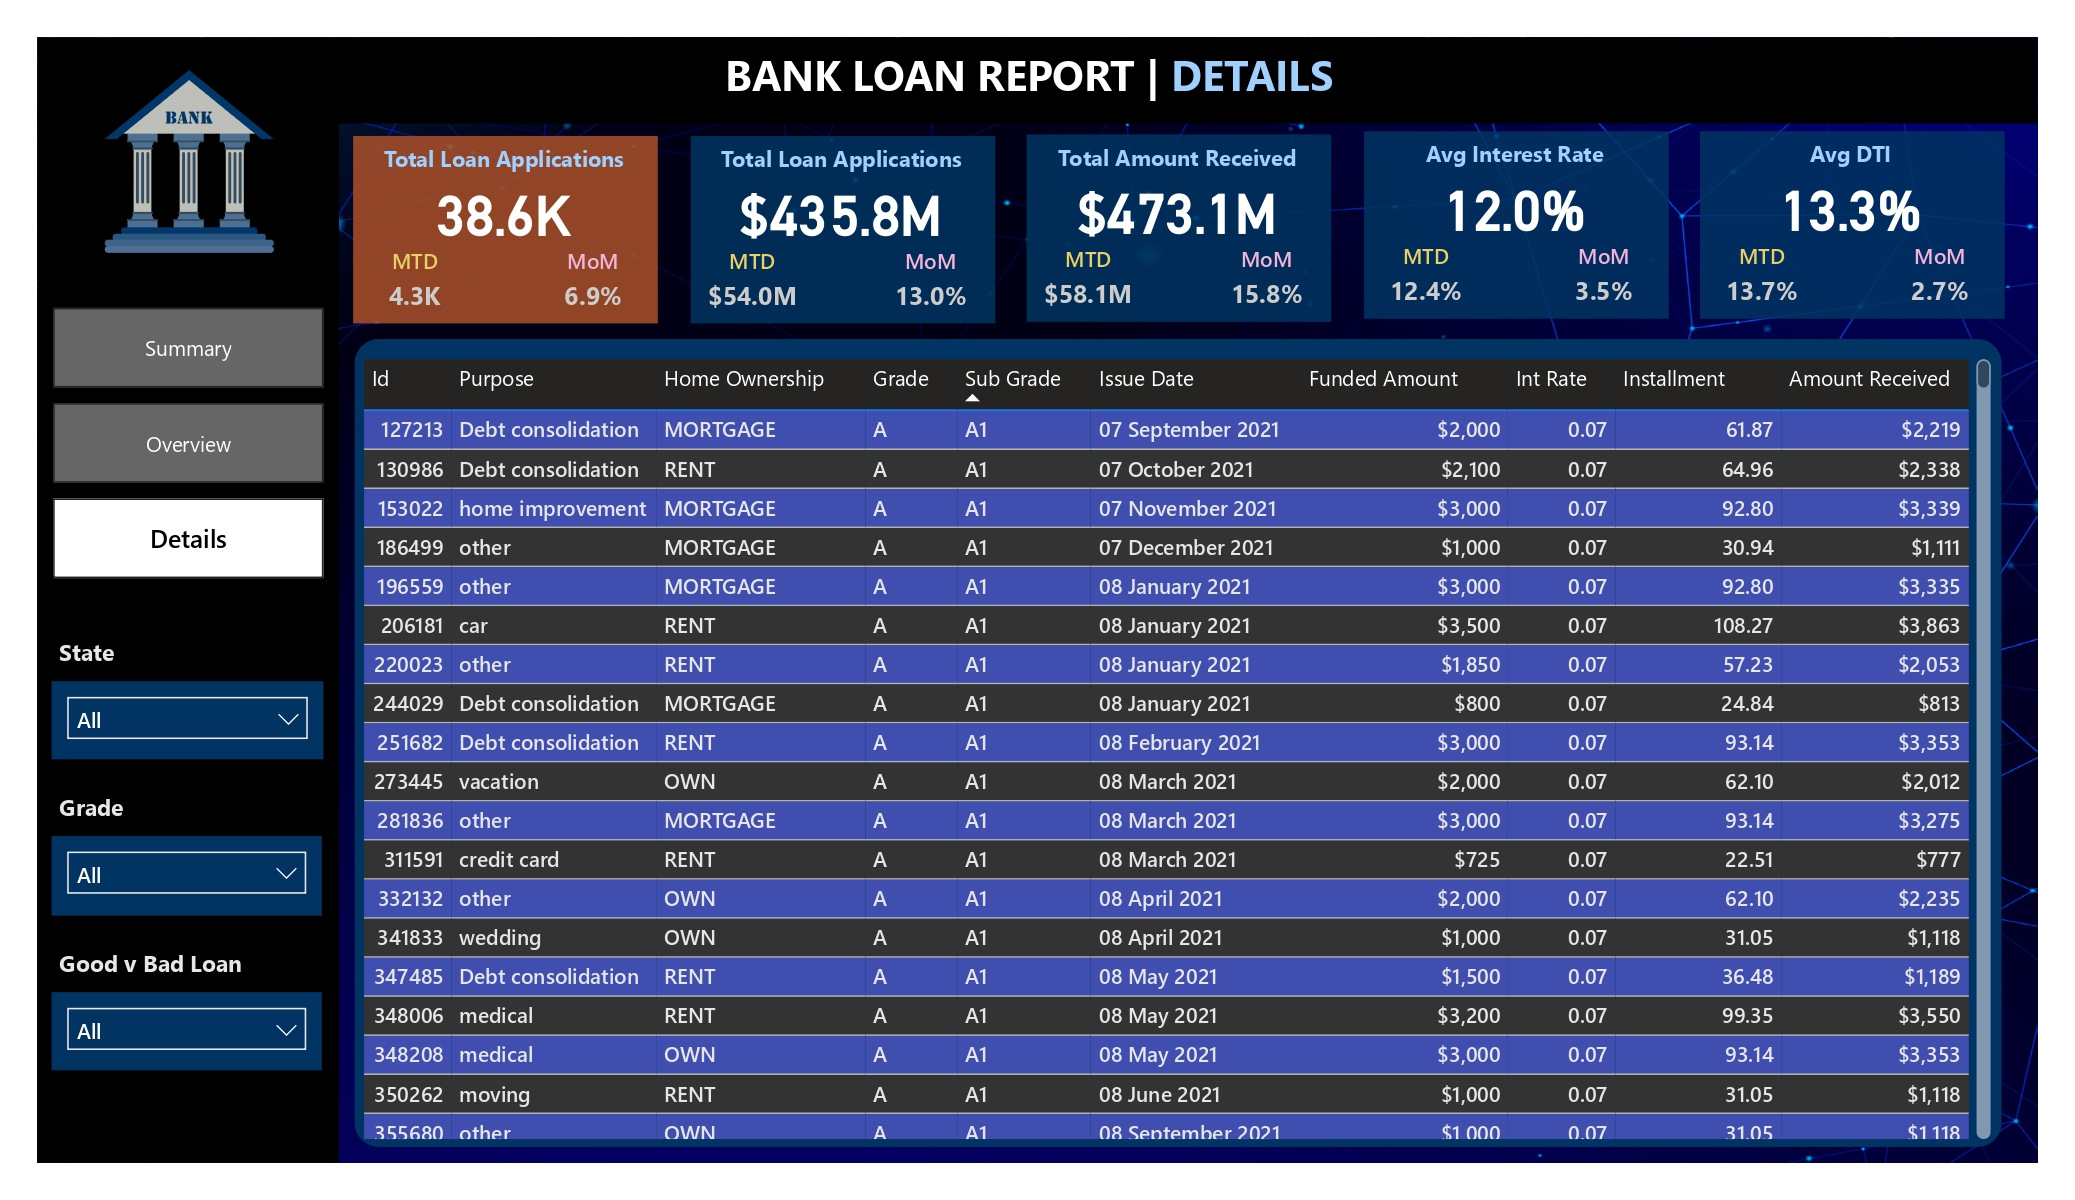

The page's visual inventory and layout, read from the dashboard file:
{"tool":"powerbi","page":{"name":"Details","canvas":[1280,720],"ordinal":2},"visuals":[{"type":"shape","box":[0,45.3,193,674.4],"z":0},{"type":"shape","box":[0,0,1280.3,55],"z":1000},{"type":"textbox","box":[434.6,0,439.5,55.6],"z":2000},{"type":"shape","box":[848.6,60.5,195.1,120],"z":3000,"group":"g4"},{"type":"shape","box":[1064.1,60.5,195.1,120],"z":3000,"group":"g5"},{"type":"shape","box":[633.2,61.6,195.1,120],"z":3000,"group":"g3"},{"type":"group","id":"g1","title":"Group 1","box":[202.3,62.8,195.3,119.8],"z":3000},{"type":"shape","box":[202.4,62.8,195.1,120],"z":3000,"group":"g1"},{"type":"shape","box":[417.8,62.8,195.1,120],"z":3000,"group":"g2"},{"type":"group","id":"g2","title":"Group 1","box":[417.7,62.8,195.3,119.8],"z":4000},{"type":"card","fields":{"Values":["Bank_Loan_data.Average Interest Rate"]},"box":[849.7,78.7,189.4,60],"z":4000,"group":"g4"},{"type":"card","fields":{"Values":["Bank_Loan_data.Avg DTI"]},"box":[1065.2,78.7,189.4,60],"z":4000,"group":"g5"},{"type":"card","fields":{"Values":["Bank_Loan_data.Total Amount Recieved"]},"box":[634.3,79.8,189.4,60],"z":4000,"group":"g3"},{"type":"card","fields":{"Values":["Bank_Loan_data.Total Loan Applications"]},"box":[203.5,81,189.4,60],"z":4000,"group":"g1"},{"type":"card","fields":{"Values":["Bank_Loan_data.Total Funded Amount"]},"box":[418.9,81,189.4,60],"z":4000,"group":"g2"},{"type":"textbox","box":[848.6,60.5,192.6,35.8],"z":5000,"group":"g4"},{"type":"textbox","box":[1064.1,60.5,192.6,35.8],"z":5000,"group":"g5"},{"type":"textbox","box":[633.2,61.6,192.6,35.8],"z":5000,"group":"g3"},{"type":"textbox","box":[202.4,62.8,192.6,35.8],"z":5000,"group":"g1"},{"type":"textbox","box":[417.8,62.8,192.6,35.8],"z":5000,"group":"g2"},{"type":"shape","box":[203.5,193,1053.5,517.4],"z":5000},{"type":"group","id":"g3","title":"Group 1","box":[633.1,61.6,195.3,119.8],"z":6000},{"type":"card","title":"MTD","fields":{"Values":["Bank_Loan_data.MTD Avg Int Rate"]},"box":[848.5,131.6,78.8,48.2],"z":6000,"group":"g4"},{"type":"card","title":"MTD","fields":{"Values":["Bank_Loan_data.MTD Avg DTI"]},"box":[1064,131.6,78.8,48.2],"z":6000,"group":"g5"},{"type":"card","title":"MTD","fields":{"Values":["Bank_Loan_data.MTD Total Amount Recieved"]},"box":[633.1,132.7,78.8,48.2],"z":6000,"group":"g3"},{"type":"card","title":"MTD","fields":{"Values":["Bank_Loan_data.MTD Loan Applications"]},"box":[202.3,133.9,78.8,48.2],"z":6000,"group":"g1"},{"type":"card","title":"MTD","fields":{"Values":["Bank_Loan_data.MTD Funded Amount"]},"box":[417.7,133.9,78.8,48.2],"z":6000,"group":"g2"},{"type":"group","id":"g4","title":"Group 1","box":[848.5,60.5,195.3,119.8],"z":7000},{"type":"card","title":"MoM","fields":{"Values":["Bank_Loan_data.MoM Avg Int Rate"]},"box":[962.6,131.6,78.8,48.2],"z":7000,"group":"g4"},{"type":"card","title":"MoM","fields":{"Values":["Bank_Loan_data.MoM Avg DTI"]},"box":[1178.1,131.6,78.8,48.2],"z":7000,"group":"g5"},{"type":"card","title":"MoM","fields":{"Values":["Bank_Loan_data.MoM Total Amount Recieved"]},"box":[747.2,132.7,78.8,48.2],"z":7000,"group":"g3"},{"type":"card","title":"MoM","fields":{"Values":["Bank_Loan_data.MoM Loan Application"]},"box":[316.4,133.9,78.8,48.2],"z":7000,"group":"g1"},{"type":"card","title":"MoM","fields":{"Values":["Bank_Loan_data.MoM Total Funded Amount"]},"box":[531.8,133.9,78.8,48.2],"z":7000,"group":"g2"},{"type":"group","id":"g5","title":"Group 1","box":[1064,60.5,195.3,119.8],"z":8000},{"type":"slicer","fields":{"Values":["Bank_Loan_data.address_state"]},"box":[9.3,411.6,173.3,50],"z":9000},{"type":"textbox","box":[9.3,377.9,73.3,33.7],"z":10000},{"type":"slicer","fields":{"Values":["Bank_Loan_data.grade"]},"box":[8.9,511.4,173.1,50.2],"z":11000},{"type":"textbox","box":[8.9,476.8,73.7,33.5],"z":12000},{"type":"slicer","fields":{"Values":["Bank_Loan_data.Good vs Bad Loan"]},"box":[8.9,610.8,173.1,50.2],"z":13000},{"type":"textbox","box":[9.3,576.7,145.3,33.7],"z":14000},{"type":"tableEx","fields":{"Values":["Bank_Loan_data.id","Bank_Loan_data.purpose","Bank_Loan_data.home_ownership","Bank_Loan_data.grade","Bank_Loan_data.sub_grade","Bank_Loan_data.issue_date","Bank_Loan_data.Total Funded Amount","Sum(Bank_Loan_data.int_rate)","Sum(Bank_Loan_data.installment)","Bank_Loan_data.Total Amount Recieved"]},"box":[203.5,201.2,1051.2,509.3],"z":15000},{"type":"pageNavigator","box":[10,173,173,174],"z":16000},{"type":"image","box":[0,1.2,193,155.8],"z":17000}]}

Visuals, with their boxes on the page's 1280x720 design canvas (x1, y1, x2, y2). These are canvas units, not pixel positions in the 2075x1200 screenshot, which may show the page scaled, cropped or inside an application window:
shape: <region>0, 45, 193, 720</region>
shape: <region>0, 0, 1280, 55</region>
textbox: <region>435, 0, 874, 56</region>
shape: <region>849, 60, 1044, 180</region>
shape: <region>1064, 60, 1259, 180</region>
shape: <region>633, 62, 828, 182</region>
"Group 1" group: <region>202, 63, 398, 183</region>
shape: <region>202, 63, 398, 183</region>
shape: <region>418, 63, 613, 183</region>
"Group 1" group: <region>418, 63, 613, 183</region>
card - Bank_Loan_data.Average Interest Rate: <region>850, 79, 1039, 139</region>
card - Bank_Loan_data.Avg DTI: <region>1065, 79, 1255, 139</region>
card - Bank_Loan_data.Total Amount Recieved: <region>634, 80, 824, 140</region>
card - Bank_Loan_data.Total Loan Applications: <region>204, 81, 393, 141</region>
card - Bank_Loan_data.Total Funded Amount: <region>419, 81, 608, 141</region>
textbox: <region>849, 60, 1041, 96</region>
textbox: <region>1064, 60, 1257, 96</region>
textbox: <region>633, 62, 826, 97</region>
textbox: <region>202, 63, 395, 99</region>
textbox: <region>418, 63, 610, 99</region>
shape: <region>204, 193, 1257, 710</region>
"Group 1" group: <region>633, 62, 828, 181</region>
"MTD" card: <region>848, 132, 927, 180</region>
"MTD" card: <region>1064, 132, 1143, 180</region>
"MTD" card: <region>633, 133, 712, 181</region>
"MTD" card: <region>202, 134, 281, 182</region>
"MTD" card: <region>418, 134, 496, 182</region>
"Group 1" group: <region>848, 60, 1044, 180</region>
"MoM" card: <region>963, 132, 1041, 180</region>
"MoM" card: <region>1178, 132, 1257, 180</region>
"MoM" card: <region>747, 133, 826, 181</region>
"MoM" card: <region>316, 134, 395, 182</region>
"MoM" card: <region>532, 134, 611, 182</region>
"Group 1" group: <region>1064, 60, 1259, 180</region>
slicer - Bank_Loan_data.address_state: <region>9, 412, 183, 462</region>
textbox: <region>9, 378, 83, 412</region>
slicer - Bank_Loan_data.grade: <region>9, 511, 182, 562</region>
textbox: <region>9, 477, 83, 510</region>
slicer - Bank_Loan_data.Good vs Bad Loan: <region>9, 611, 182, 661</region>
textbox: <region>9, 577, 155, 610</region>
tableEx - Bank_Loan_data.id x Bank_Loan_data.purpose: <region>204, 201, 1255, 710</region>
pageNavigator: <region>10, 173, 183, 347</region>
image: <region>0, 1, 193, 157</region>
